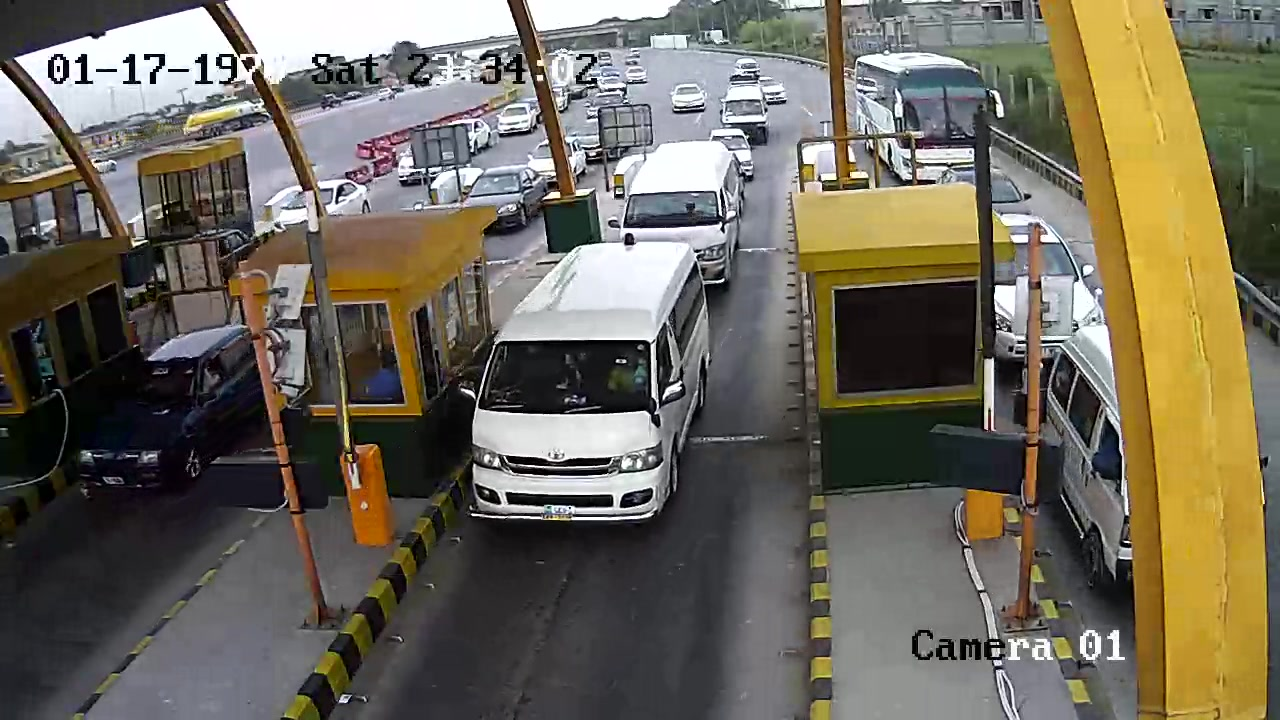F2: (459, 233, 720, 529)
